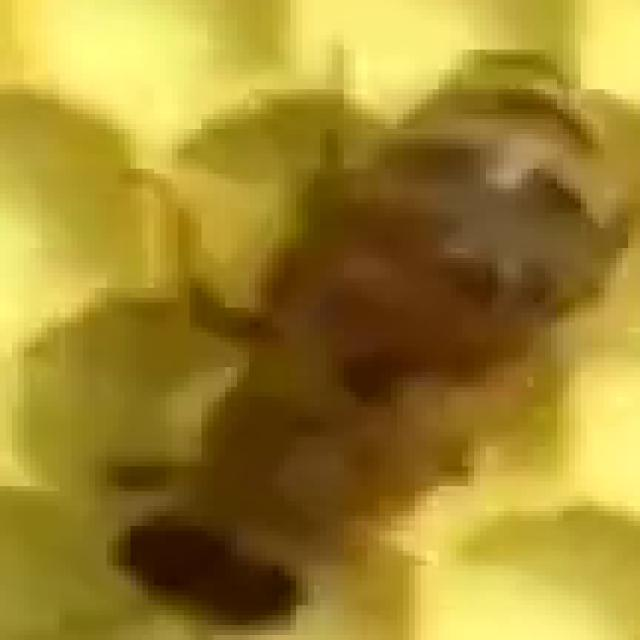honeybee: (103, 37, 577, 614)
